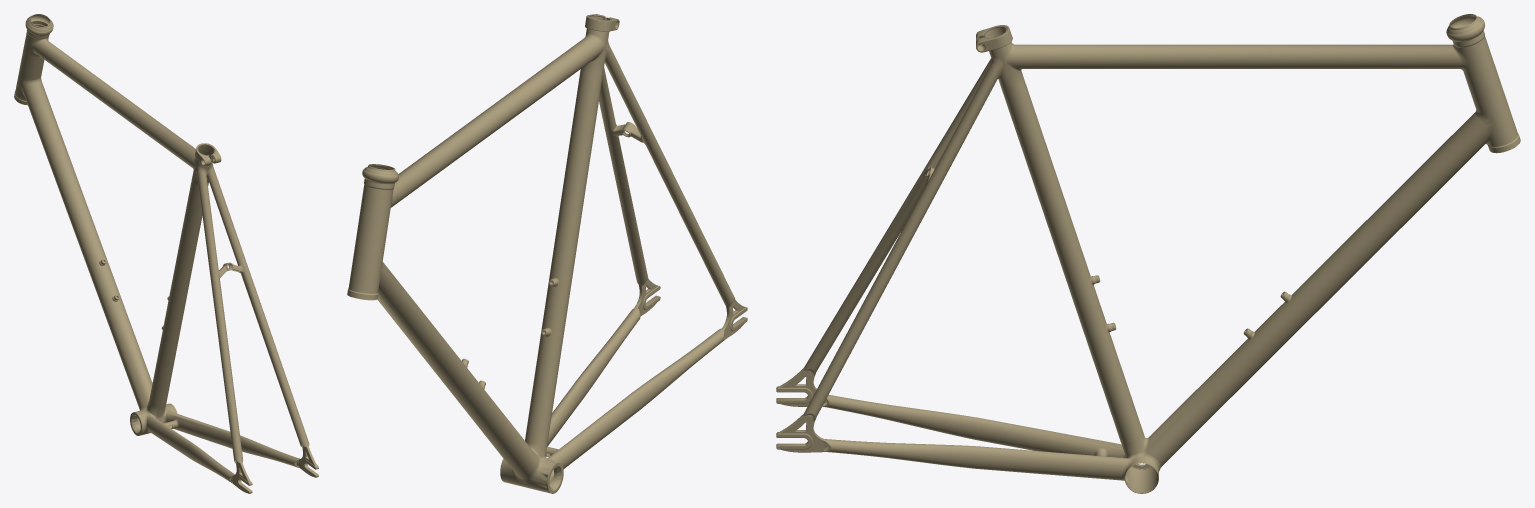
Rendered from singleframe.fbx.
3 renders of one model, left to right at view 1: azimuth 30°, elevation 25°; view 2: azimuth 150°, elevation 25°; view 3: azimuth 270°, elevation 25°, orthographic. The views are drawn at different scales.
Parts seen in each view (by area): view 1: frame; view 2: frame; view 3: frame.
Boxes of the visible parts, bbox=[...] form: frame: bbox=[14, 14, 318, 493]; frame: bbox=[347, 14, 747, 493]; frame: bbox=[776, 14, 1520, 493].
Bounding box in the file's own units: 13.99 × 59.76 × 86.84.
